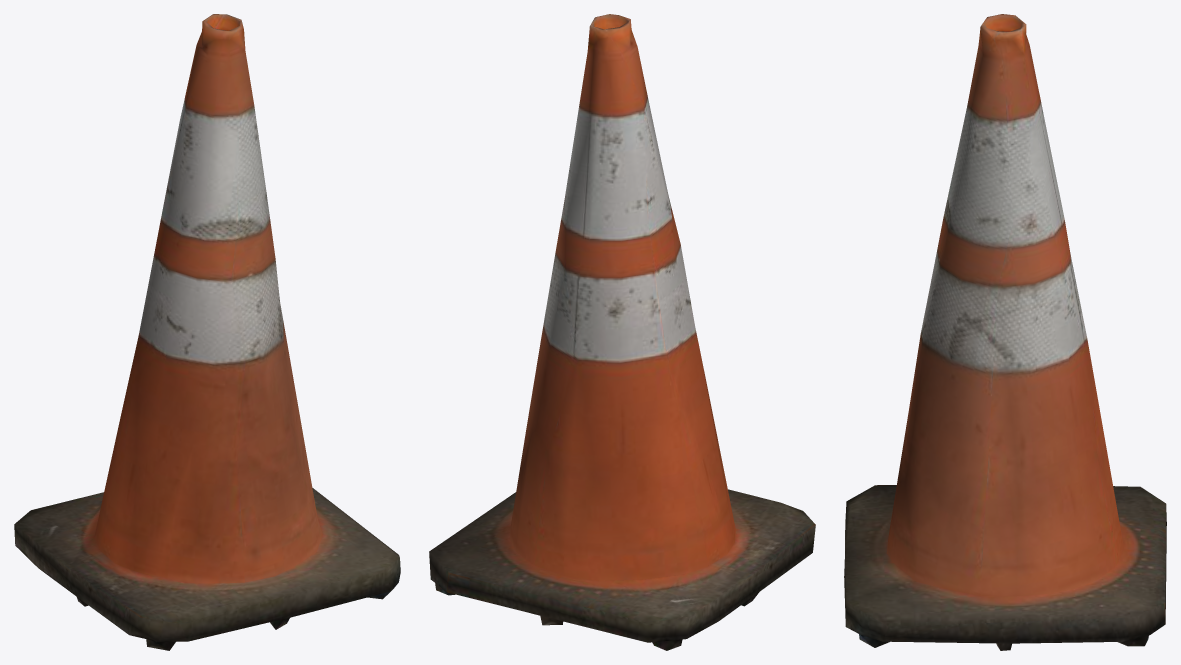
Rendered from Traffic_Cone_uhrhabqfa_Low.gltf.
The picture shows the model from 3 angles, left to right: view 1: azimuth 30°, elevation 25°; view 2: azimuth 150°, elevation 25°; view 3: azimuth 270°, elevation 25°; orthographic projection. The views are drawn at different scales.
Visible parts, largest first — view 1: uhrhabqfa_LOD0_TIER3_000; view 2: uhrhabqfa_LOD0_TIER3_000; view 3: uhrhabqfa_LOD0_TIER3_000.
Part boxes in pixels (left/top/right/bottom): uhrhabqfa_LOD0_TIER3_000: left=14, top=14, right=400, bottom=650; uhrhabqfa_LOD0_TIER3_000: left=429, top=14, right=815, bottom=650; uhrhabqfa_LOD0_TIER3_000: left=844, top=14, right=1166, bottom=650.
Bounding box in the file's own units: 0.3535 × 0.6875 × 0.3517.
Materials: 1 (1 with a texture image).
